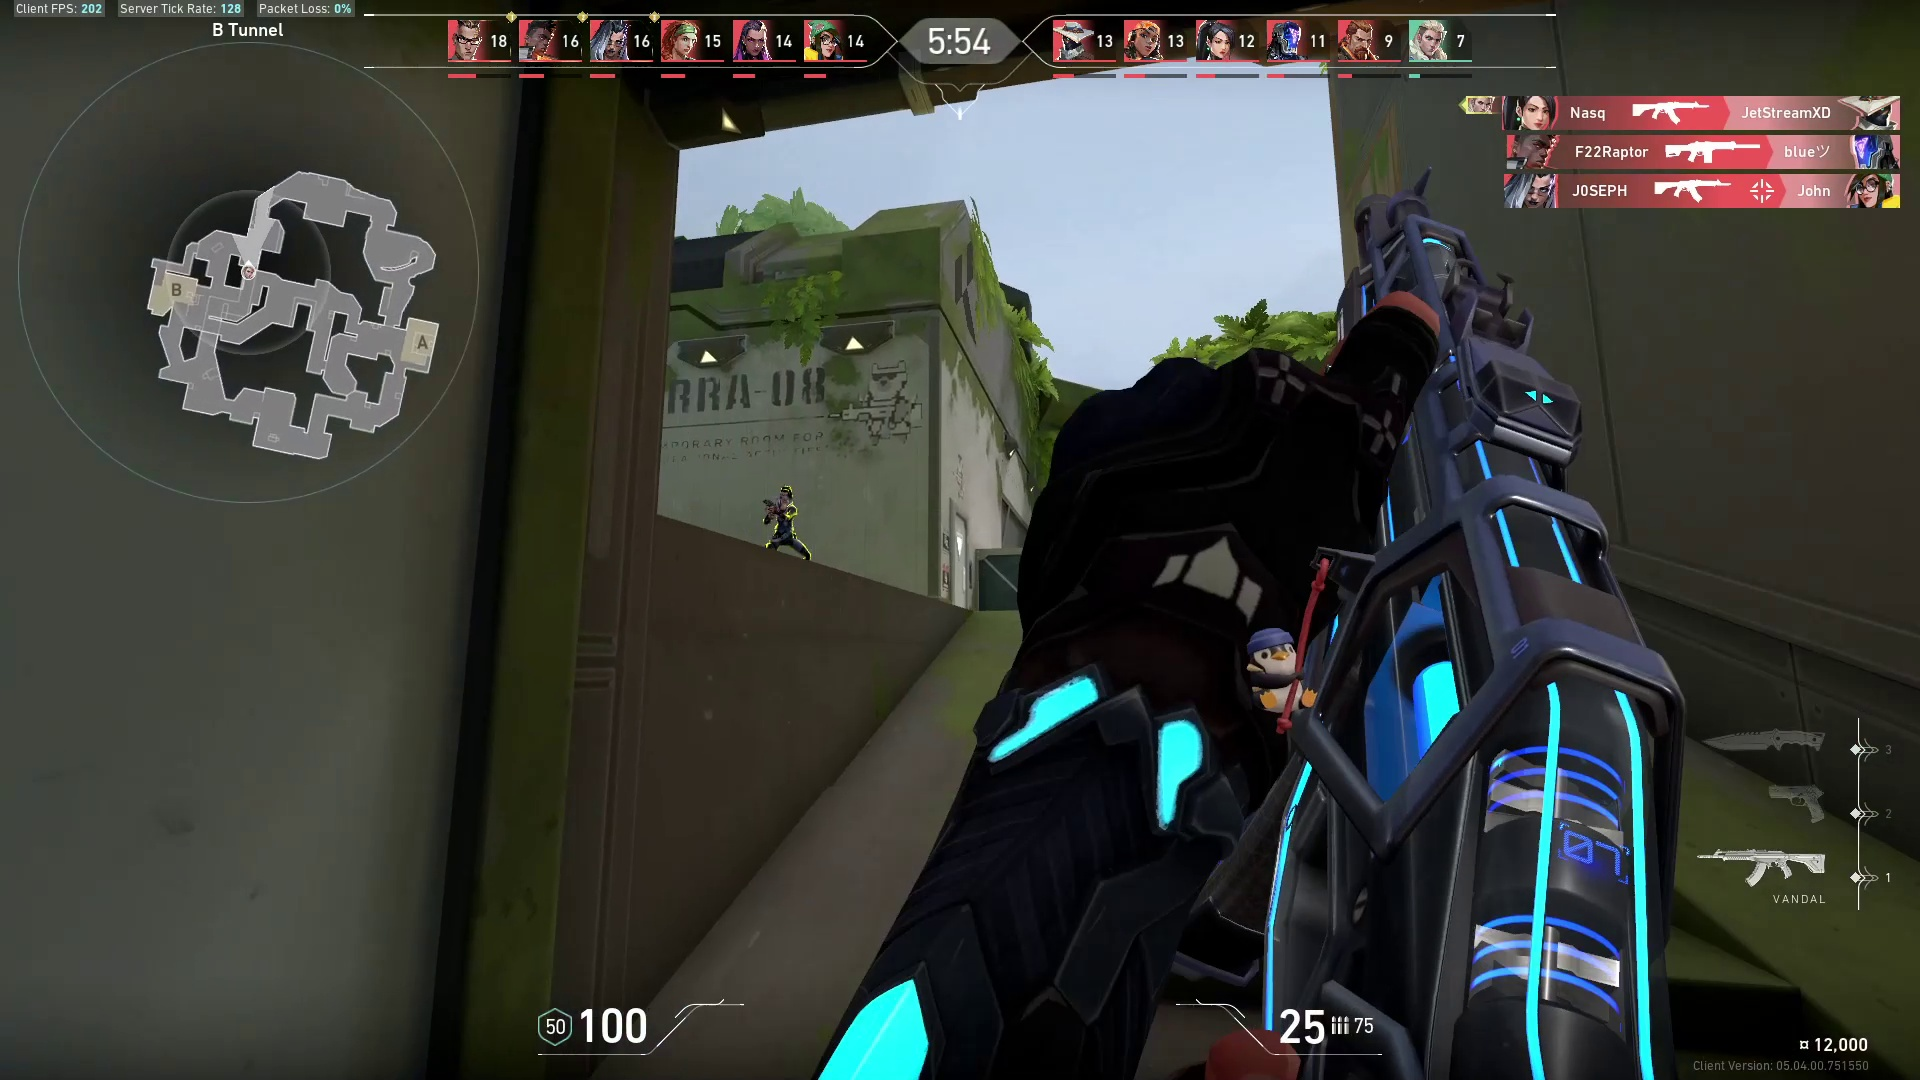enemy_body: (762, 502, 817, 564)
enemy_head: (772, 484, 799, 506)
